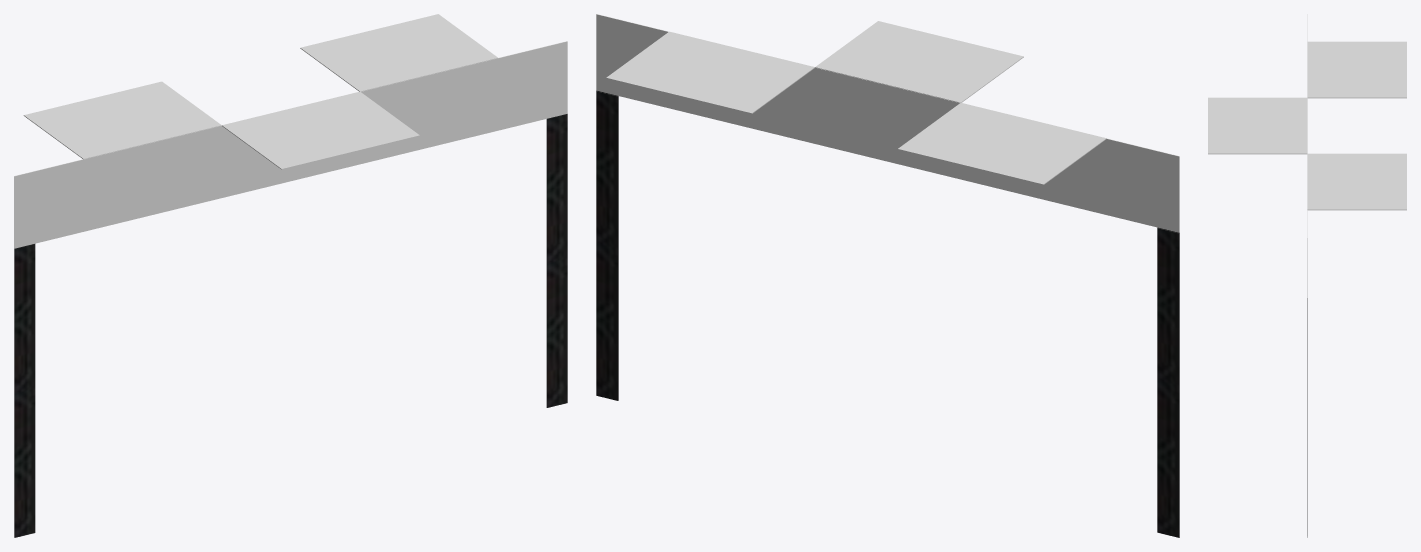
Rendered from stopLights.fbx.
3 views of the same model, side by side, from view 1: azimuth 30°, elevation 25°; view 2: azimuth 150°, elevation 25°; view 3: azimuth 270°, elevation 25° (orthographic). The views are drawn at different scales.
Visible parts, largest first — view 1: Cube.001, Cube.005, Cube.003, Cube.004, Cube, Cube.002; view 2: Cube.001, Cube.004, Cube.003, Cube.005, Cube, Cube.002; view 3: Cube.003, Cube.004, Cube.005.
Part boxes in pixels (x1,y1,x2,y2): Cube.001: (14,41,567,248); Cube.005: (222,91,419,169); Cube.003: (23,81,221,159); Cube.004: (300,14,497,91); Cube: (546,114,567,407); Cube.002: (14,244,35,537); Cube.001: (596,14,1179,232); Cube.004: (606,31,814,113); Cube.003: (897,103,1106,184); Cube.005: (815,21,1023,102); Cube: (596,90,618,400); Cube.002: (1157,227,1179,537); Cube.003: (1307,41,1406,98); Cube.004: (1307,153,1406,210); Cube.005: (1208,97,1307,154).
Size of the model in its own units: 1600 by 1001 by 600.
Materials: 3 (1 with a texture image).
